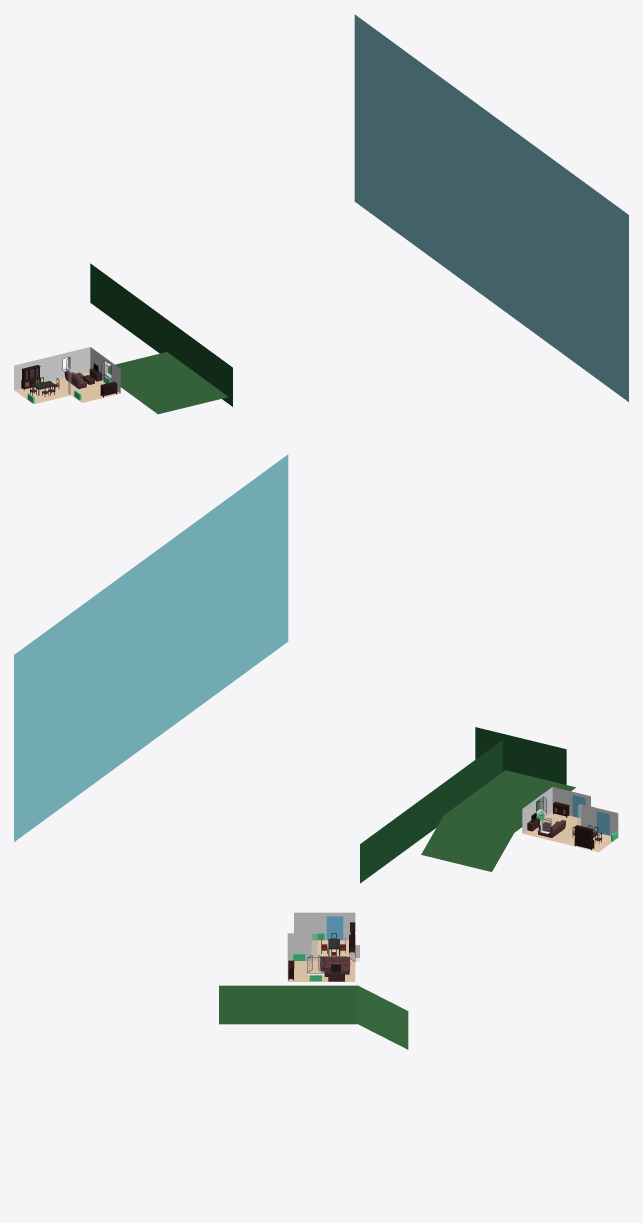
3 views of the same model, one above another, from view 1: azimuth 30°, elevation 25°; view 2: azimuth 150°, elevation 25°; view 3: azimuth 270°, elevation 25° (orthographic). The views are drawn at different scales.
Parts seen in each view (by area): view 1: Ciel Entree, Buissons Entree, Sol Ext Entree, MurSud Gauche, SolSalon; view 2: Ciel Entree, Buissons Entree (×2), Sol Ext Entree (×2), SolSalon, MurCuisine; view 3: Sol Ext Entree (×2), MurEst, SolSalon, MurSejourCuisine, SolSam, PorteFenSalon.
Boxes of the visible parts, x1,y1,x2,y2 form: Ciel Entree: [354, 14, 628, 401]; Buissons Entree: [90, 263, 232, 406]; Sol Ext Entree: [108, 352, 228, 414]; MurSud Gauche: [14, 354, 62, 389]; SolSalon: [52, 372, 119, 402]; Ciel Entree: [14, 454, 288, 841]; Buissons Entree (×2): [360, 727, 566, 883]; Sol Ext Entree (×2): [421, 770, 575, 871]; SolSalon: [523, 811, 580, 842]; MurCuisine: [580, 804, 618, 837]; Sol Ext Entree (×2): [219, 985, 408, 1049]; MurEst: [294, 912, 355, 940]; SolSalon: [287, 960, 355, 981]; MurSejourCuisine: [287, 933, 311, 960]; SolSam: [311, 940, 354, 960]; PorteFenSalon: [326, 916, 343, 940].
Bounding box in the file's own units: 49.04 × 19.9 × 50.36.
